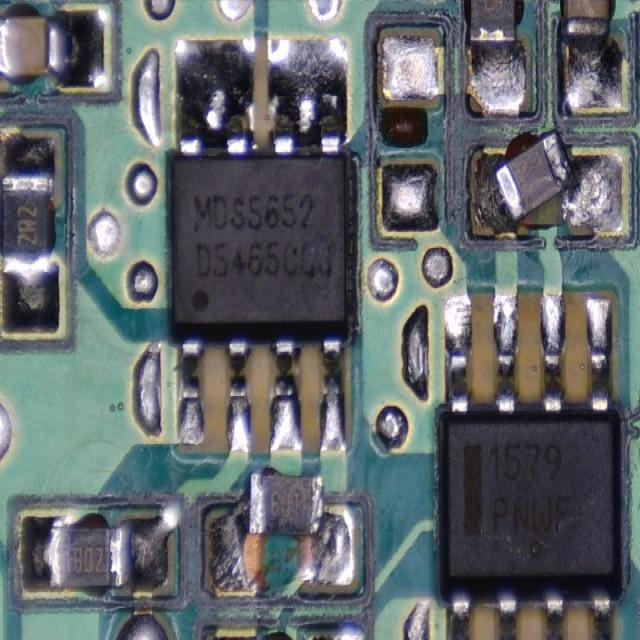Incorrect_installation: (209, 473, 353, 592), (476, 128, 624, 233), (561, 0, 623, 108), (469, 0, 526, 112)
